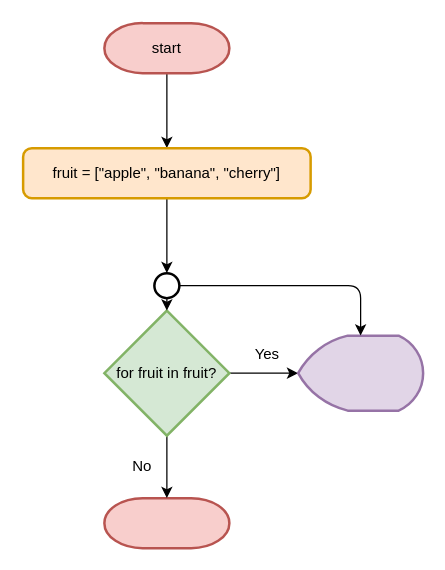
The diagram is 445 pixels wide and 570 high, and some of its shapes have lost their labels. Here are the shapes that lost their labels. From the top down, the box of each, then its label:
(296, 334, 424, 411): Display:fruit
(102, 496, 230, 549): stop
